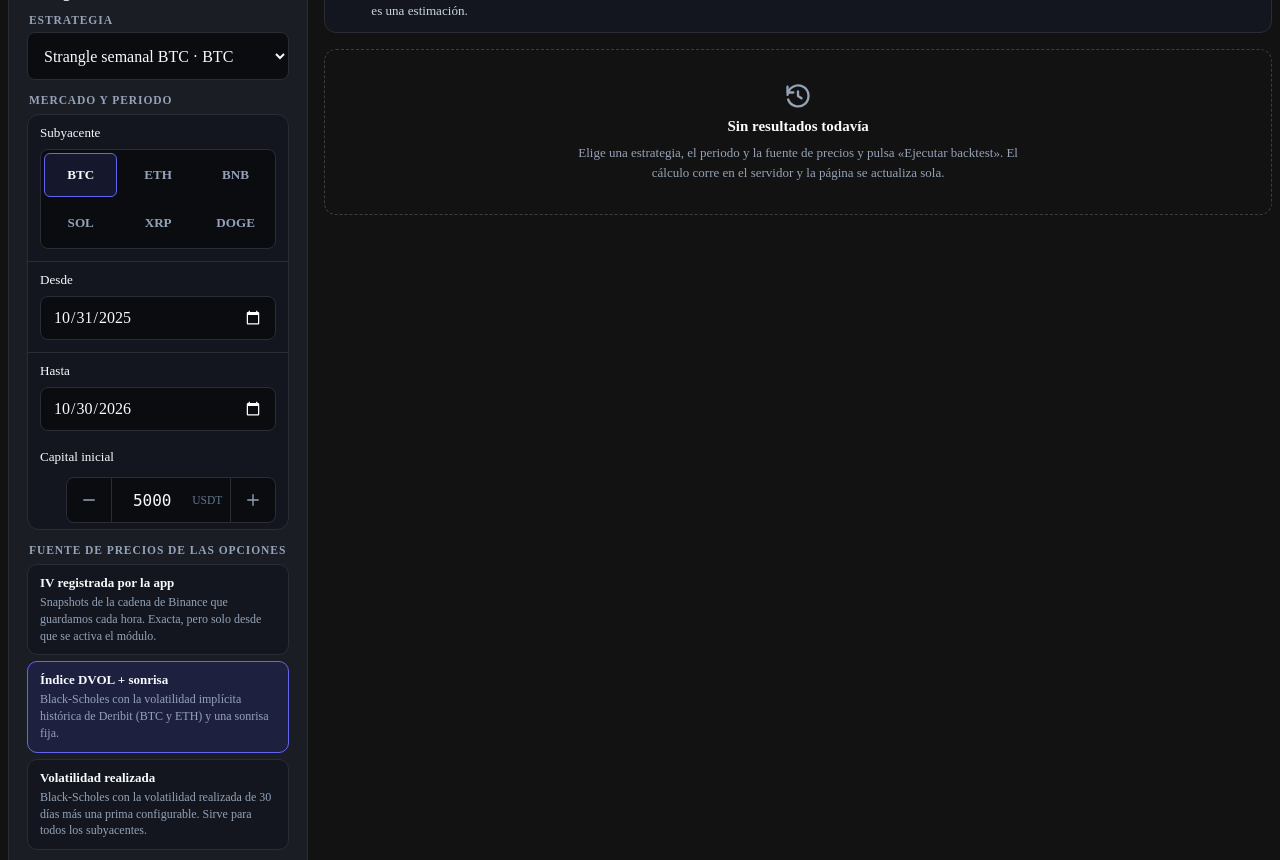
Test: BacktestingTab › DVOL se desactiva con pista para subyacentes distintos de BTC/ETH y pasa a vol. realizada
Expected: the dropdown labelled "Estrategia" shows "Strangle semanal BTC · BTC", [27,32,289,80]
Click the radio button labelled "SOL". click: (81, 223)
box: [44,201,117,245]
(page scrolled)
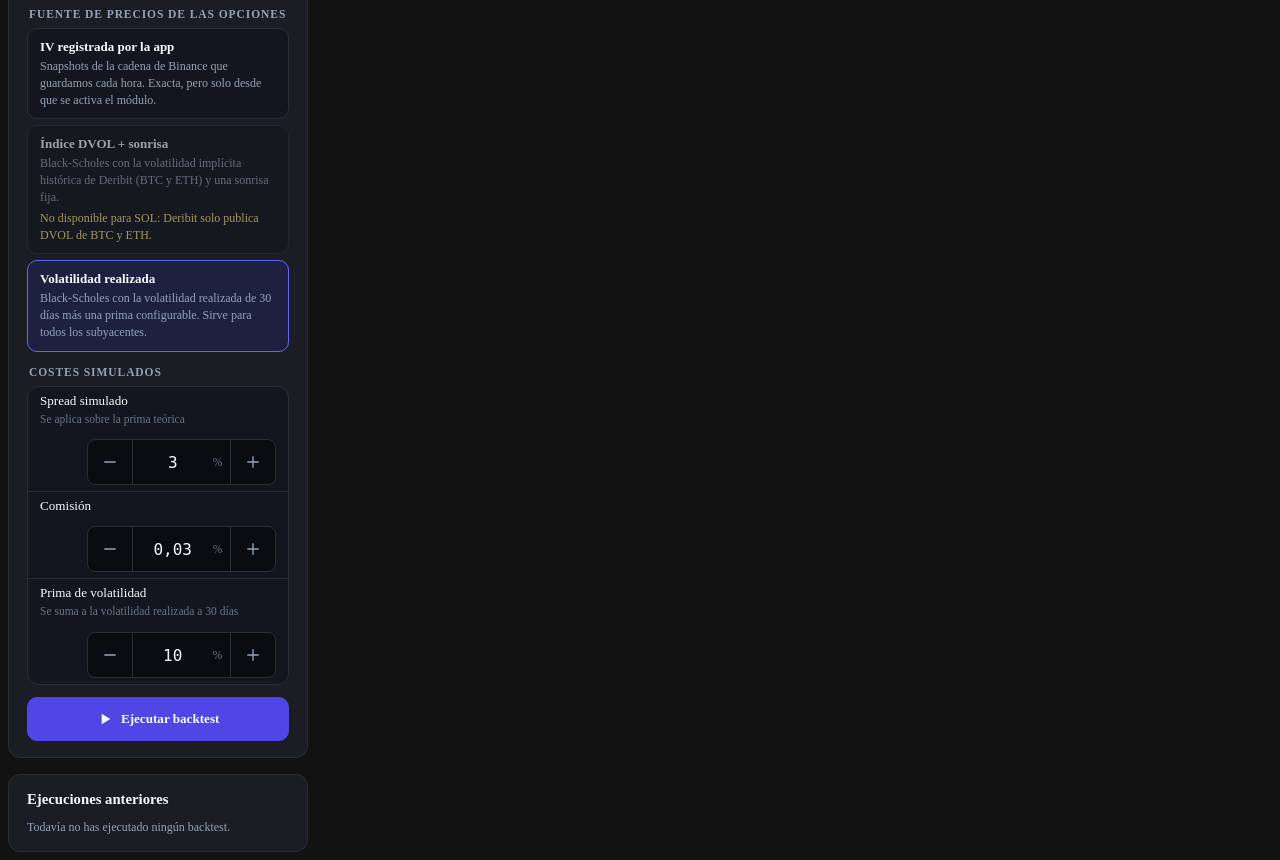
Now the button "Índice DVOL + sonrisa" is disabled, box [27,125,289,254]
Now the text "No disponible para SOL" is shown, box [40,210,276,243]
Now the field labelled "Prima de volatilidad" is shown, box [133,633,213,677]
